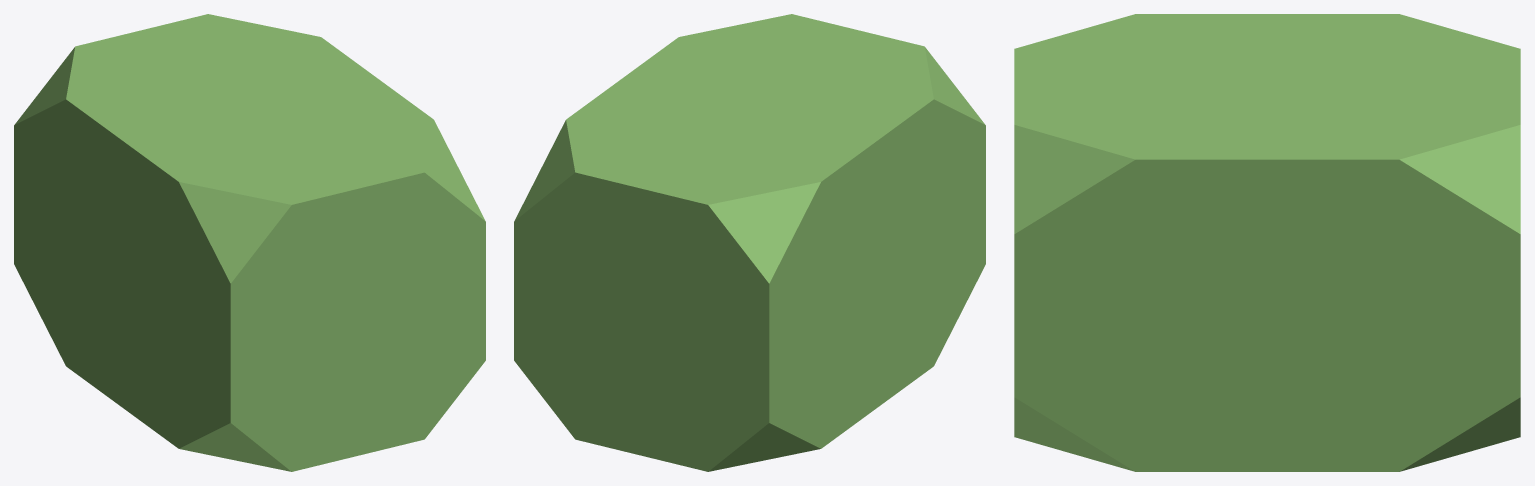
The model's file is SimpleBushA.glb.
The picture shows the model from 3 angles, left to right: view 1: azimuth 30°, elevation 25°; view 2: azimuth 150°, elevation 25°; view 3: azimuth 270°, elevation 25°; orthographic projection. The views are drawn at different scales.
Visible parts, largest first — view 1: Cube; view 2: Cube; view 3: Cube.
Part boxes in pixels (x1,y1,x2,y2): Cube: (14, 14, 485, 471); Cube: (514, 14, 985, 471); Cube: (1014, 14, 1520, 471).
Size of the model in its own units: 1 by 1 by 1.47.
